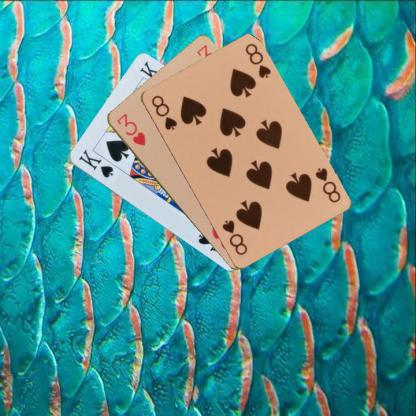3h: (113, 110, 147, 147)
8s: (148, 93, 178, 131), (312, 165, 341, 204)
Ks: (76, 146, 114, 179)
